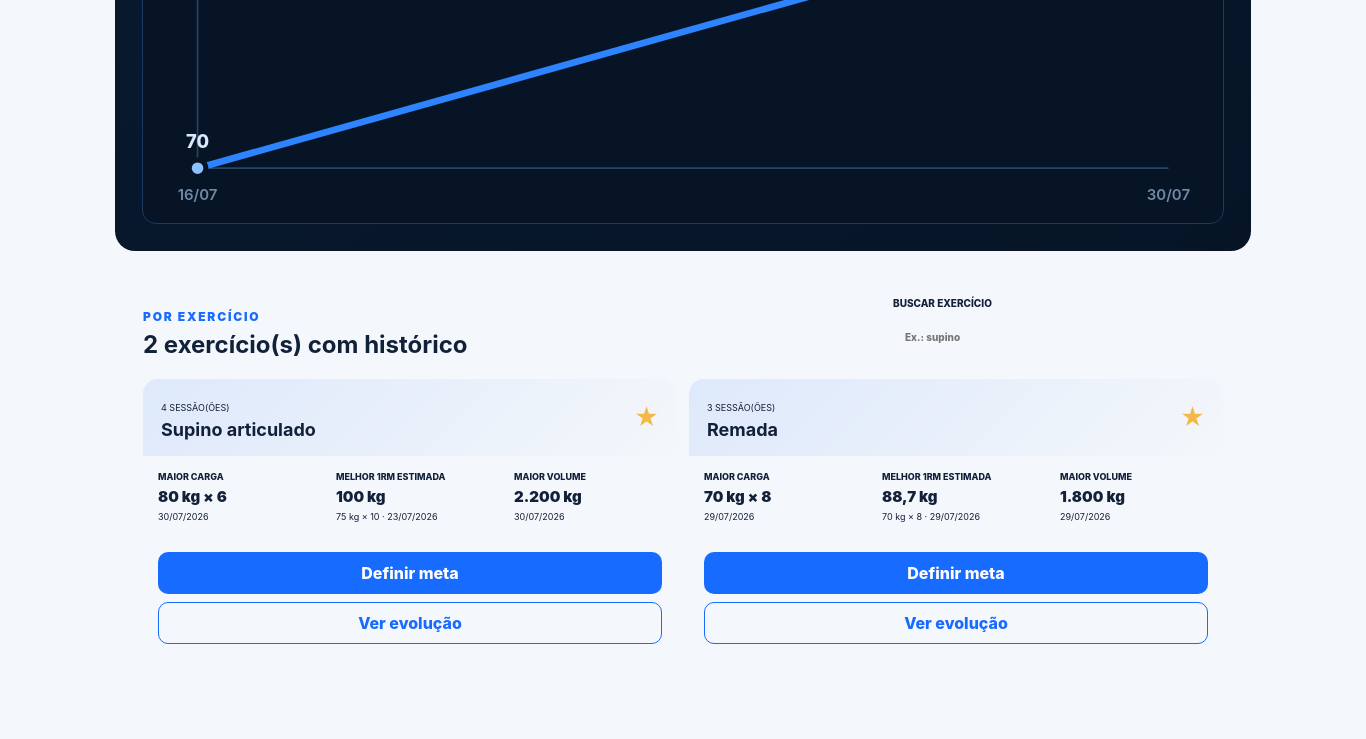
Test: página de recordes pessoais › abre a evolução do exercício selecionado e compara com a sessão anterior
(page scrolled)
Check: the heading "Supino articulado" is shown, box top-left (161, 419), bottom-right (316, 440)
Click the button "Ver evolução" below "88,7": (956, 623) top-left (704, 602), bottom-right (1208, 644)
(page scrolled)
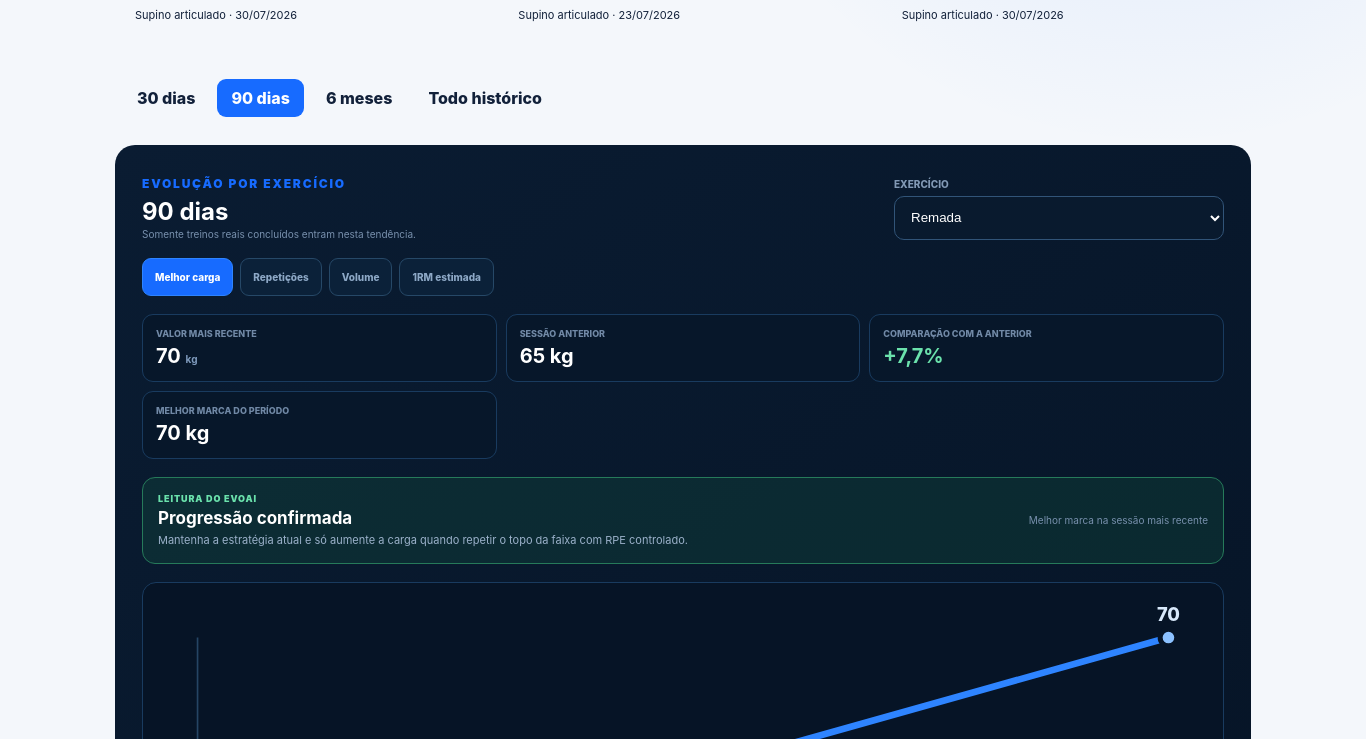
Check: the text "Comparação com a anterior" is shown, box top-left (883, 328), bottom-right (1032, 339)
Check: the dropdown named "Exercício do gráfico" shows "Remada", box top-left (894, 196), bottom-right (1224, 240)
Check: the text "+7,7%" is shown, box top-left (883, 344), bottom-right (944, 368)
